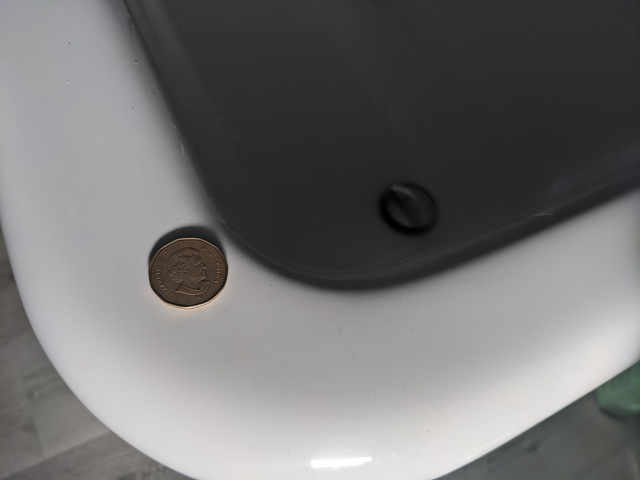loonie: (138, 232, 235, 312)
